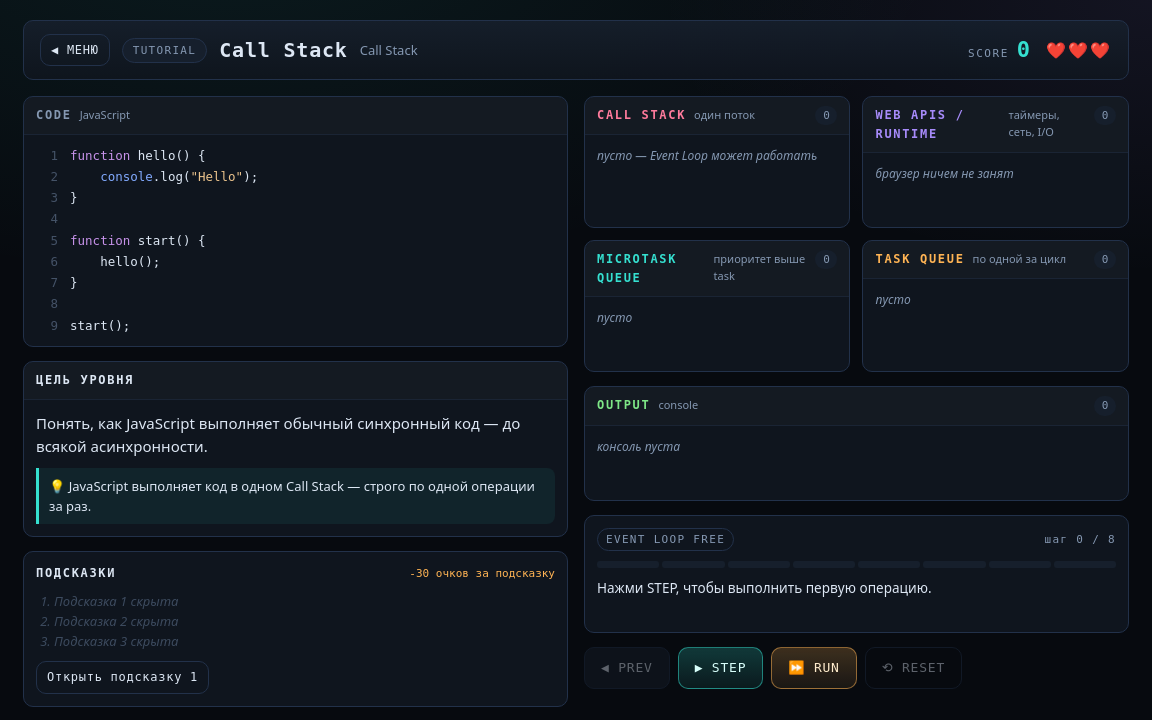
экран уровня › шаги симуляции › STEP выполняет операции по одной и показывает разбор шага
This screenshot has width=1152, height=720.
Click the button "▶ STEP": (720, 668) [678,647,763,689]
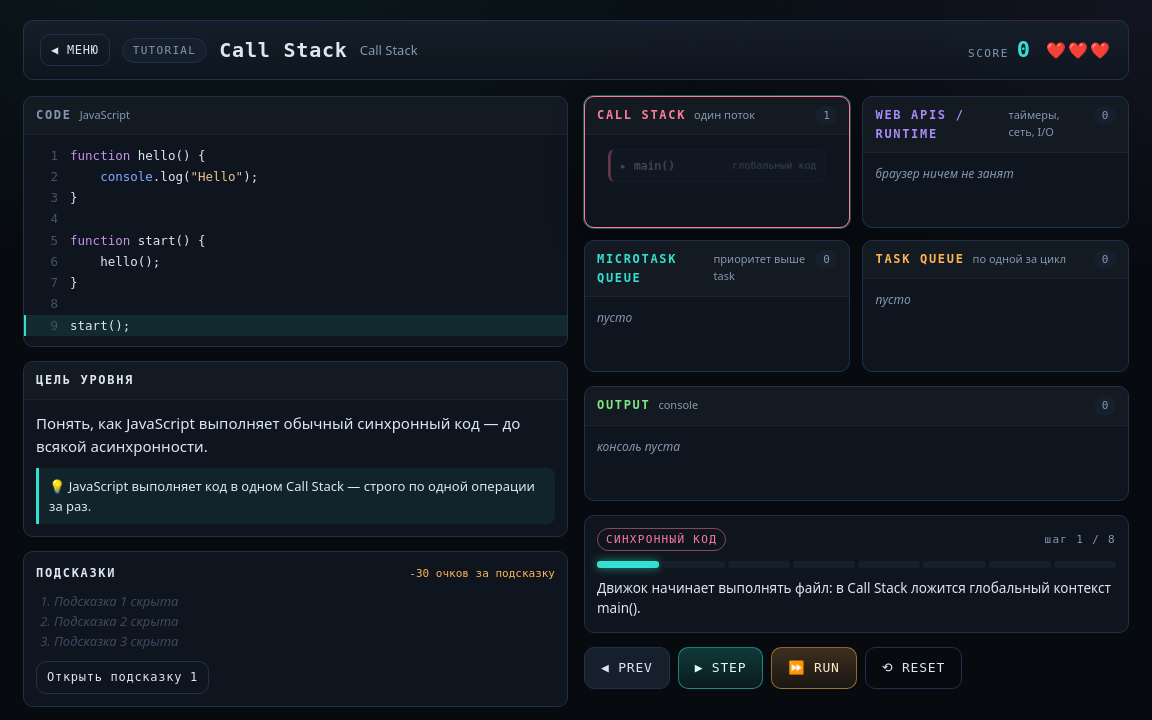
Expected: the text "Движок начинает выполнять файл: в Call Stack ложится глобальный контекст main()." is shown, [597,578,1116,620]
Expected: the element with class "stack-list" shows "main()", [627,158,672,173]
